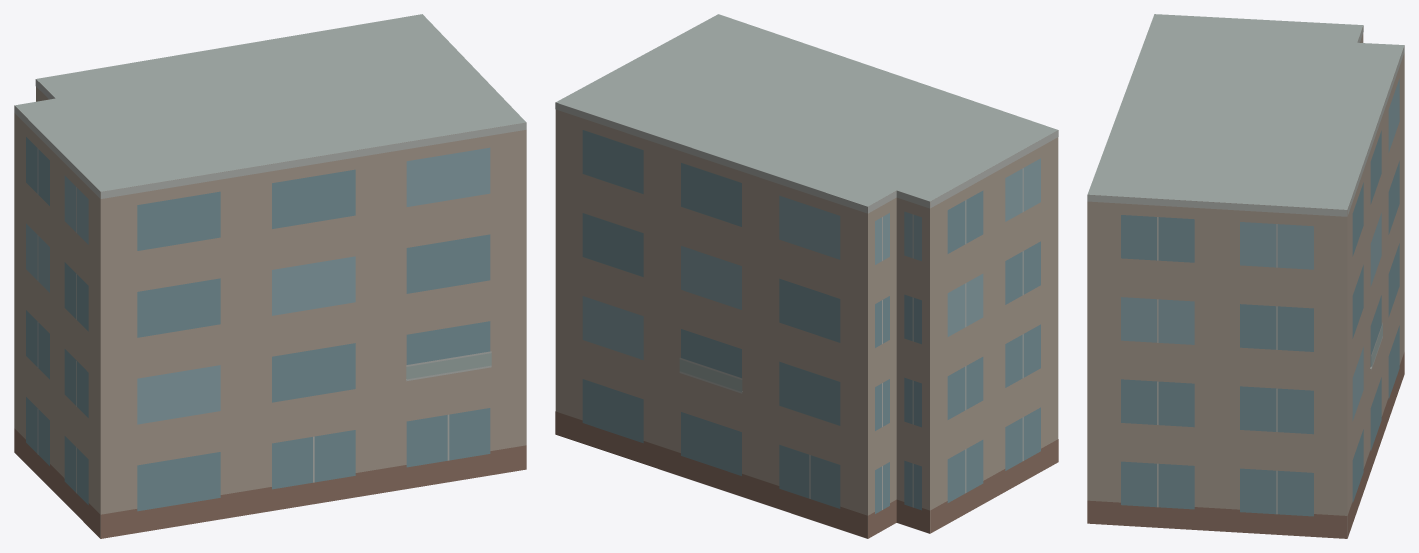
Rendered from survey-upis-33015555.glb.
3 views of the same model, side by side, from view 1: azimuth 30°, elevation 25°; view 2: azimuth 150°, elevation 25°; view 3: azimuth 270°, elevation 25° (orthographic). The views are drawn at different scales.
Parts seen in each view (by area): view 1: survey-upis-33015555.tmp; view 2: survey-upis-33015555.tmp; view 3: survey-upis-33015555.tmp.
Part boxes in pixels (left/top/right/bottom): survey-upis-33015555.tmp: left=14, top=14, right=526, bottom=538; survey-upis-33015555.tmp: left=555, top=14, right=1058, bottom=538; survey-upis-33015555.tmp: left=1087, top=14, right=1404, bottom=538.
Bounding box in the file's own units: 14.89 × 11.65 × 10.19.
